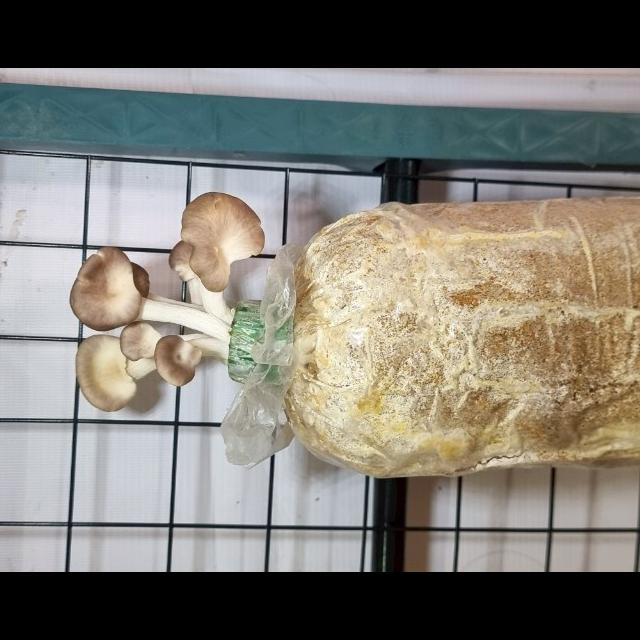normal: (63, 235, 231, 355), (63, 319, 259, 417), (163, 187, 276, 329)
